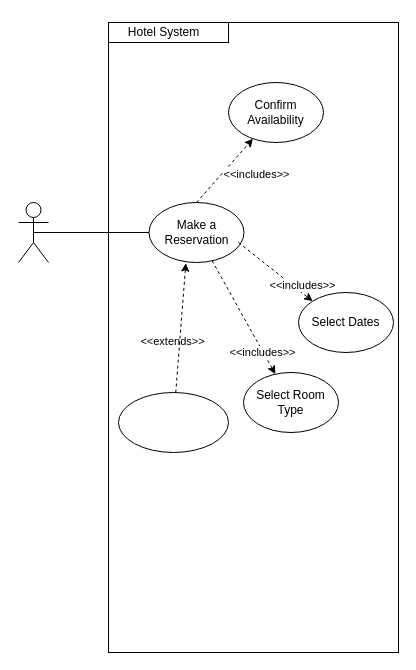
This 416x670 diagram has some shape labels left out. Each missing label, with the centre of its shape:
Guest: point (33, 232)
Request Disability Accomadations: point (173, 422)
